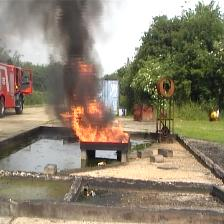fire: (58, 60, 129, 143)
